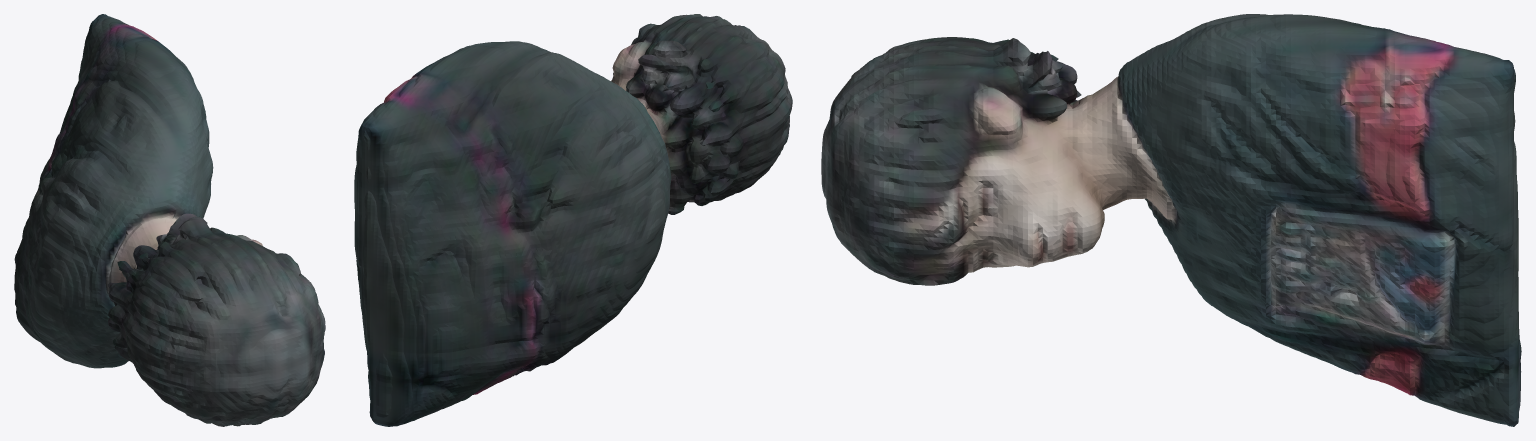
3 renders of one model, left to right at view 1: azimuth 30°, elevation 25°; view 2: azimuth 150°, elevation 25°; view 3: azimuth 270°, elevation 25°, orthographic. The views are drawn at different scales.
Parts seen in each view (by area): view 1: world; view 2: world; view 3: world.
Boxes of the visible parts, x1,y1,x2,y2 form: world: (14,14,325,426); world: (354,14,792,426); world: (821,14,1521,426).
Bounding box in the file's own units: 0.4458 × 0.5991 × 0.9632.
